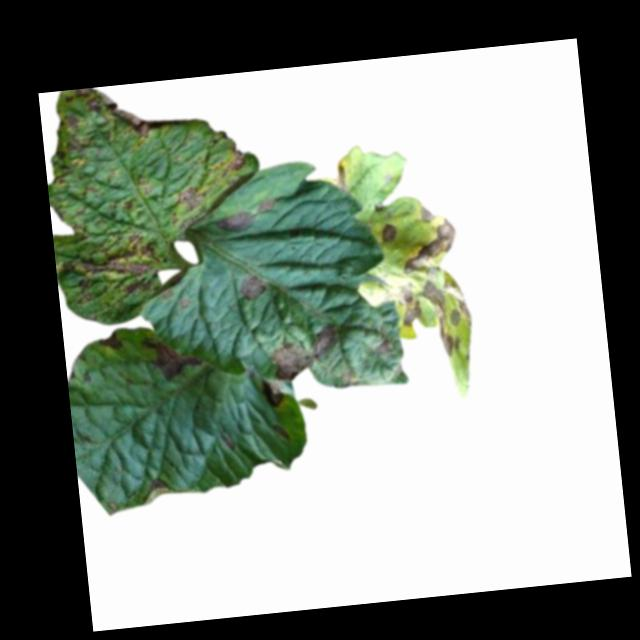Early_blight: (391, 203, 476, 361), (59, 230, 162, 306), (79, 82, 150, 148), (268, 321, 343, 381), (42, 112, 88, 189), (139, 333, 206, 385), (211, 198, 278, 235), (215, 141, 249, 176), (173, 183, 208, 215), (257, 376, 285, 412), (237, 275, 266, 303), (96, 331, 125, 352), (381, 221, 398, 245), (375, 339, 393, 357), (149, 479, 165, 494)
